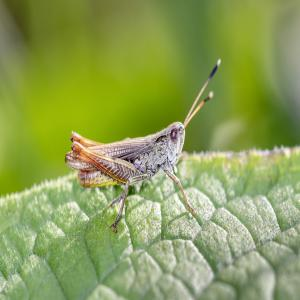locust: (70, 85, 222, 213)
